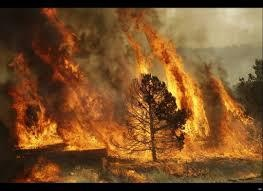fire: (128, 18, 257, 164)
